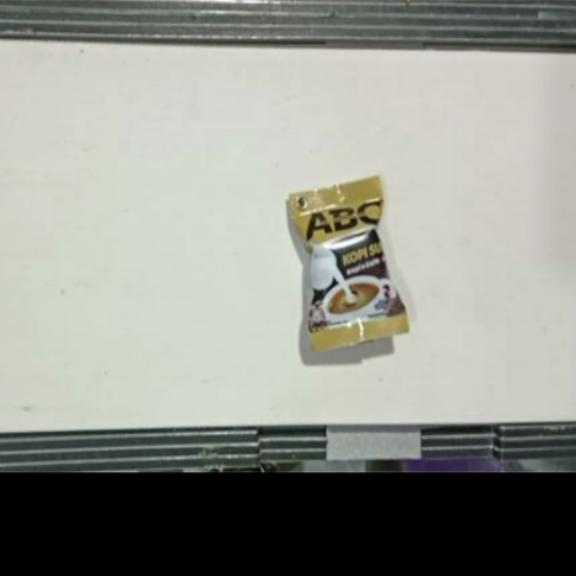Plastik: (288, 175, 409, 353)
